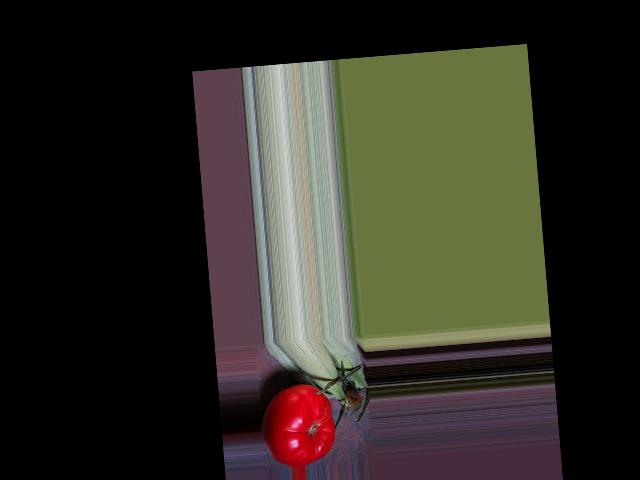tomato: (258, 381, 337, 468)
